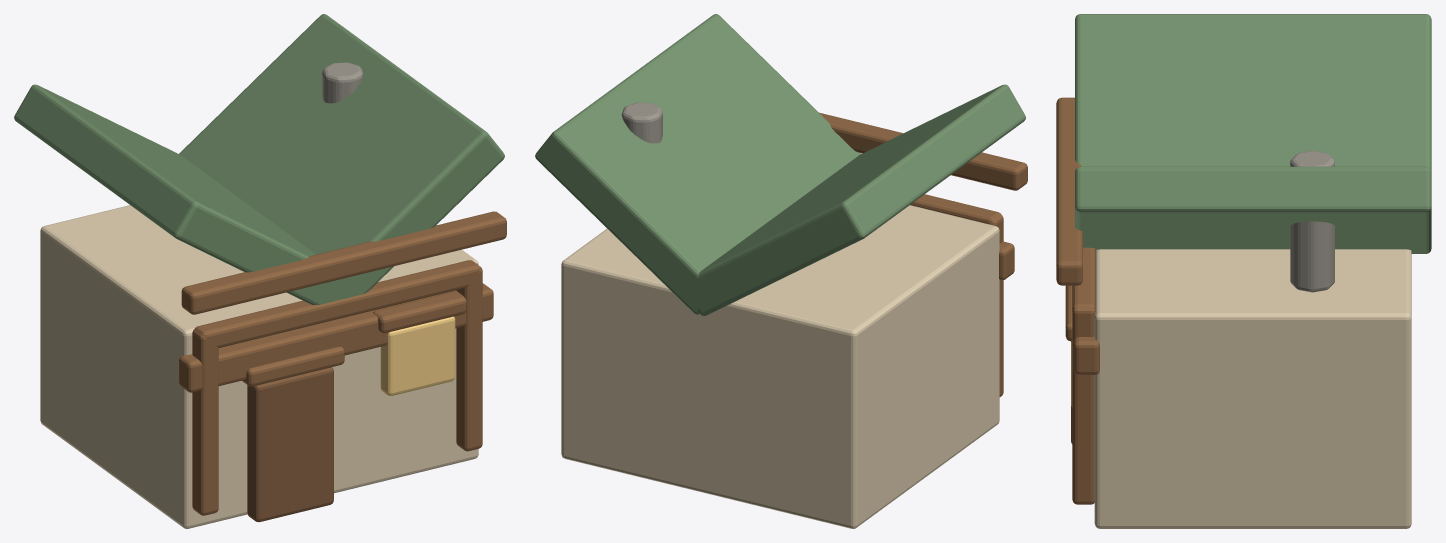
File: woodland-cottage-01--forest-green-roof.glb
3 views of the same model, side by side, from view 1: azimuth 30°, elevation 25°; view 2: azimuth 150°, elevation 25°; view 3: azimuth 270°, elevation 25° (orthographic). The views are drawn at different scales.
Parts seen in each view (by area): view 1: woodland-cottage-01--forest-green-roof; view 2: woodland-cottage-01--forest-green-roof; view 3: woodland-cottage-01--forest-green-roof.
Part boxes in pixels (x1,y1,x2,y2): woodland-cottage-01--forest-green-roof: [14, 14, 506, 528]; woodland-cottage-01--forest-green-roof: [535, 14, 1027, 528]; woodland-cottage-01--forest-green-roof: [1056, 14, 1431, 528].
Size of the model in its own units: 0.3125 by 0.3022 by 0.284.
